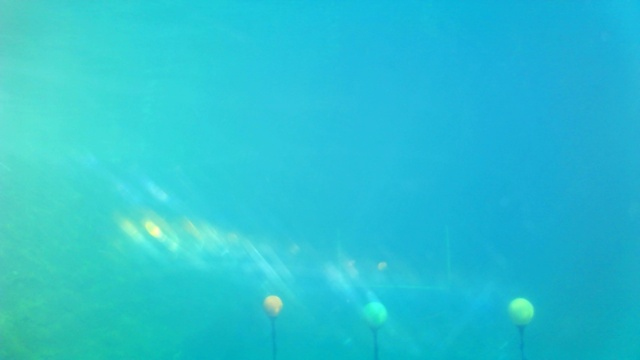buoy_green: (360, 298, 389, 336)
buoy_red: (262, 295, 282, 319)
